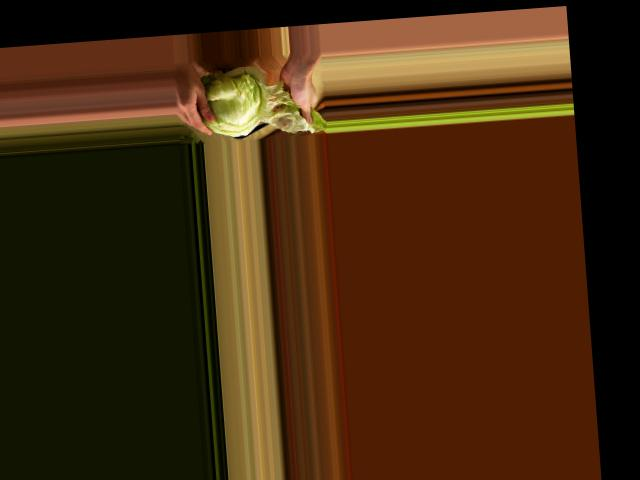lettuce: (193, 59, 285, 142)
